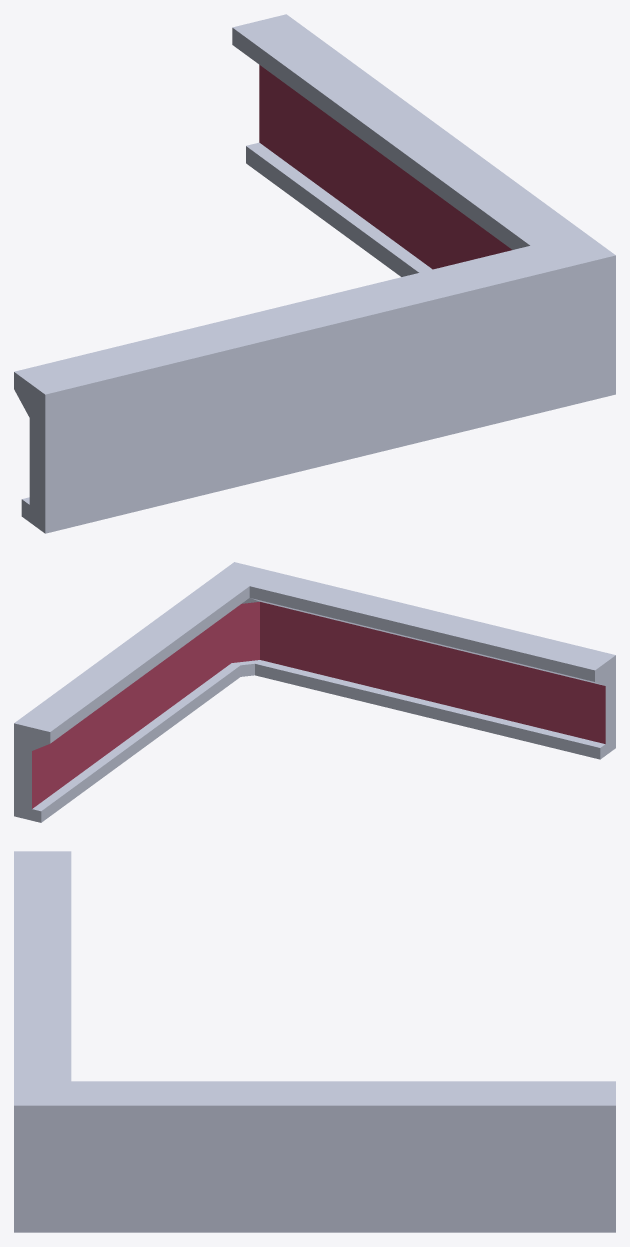
3 views of the same model, one above another, from view 1: azimuth 30°, elevation 25°; view 2: azimuth 150°, elevation 25°; view 3: azimuth 270°, elevation 25° (orthographic). The views are drawn at different scales.
Parts seen in each view (by area): view 1: object_026; view 2: object_026; view 3: object_026.
Boxes of the visible parts, x1,y1,x2,y2 form: object_026: (14,14,615,533); object_026: (14,562,615,822); object_026: (14,851,615,1232).
Bounding box in the file's own units: 10 × 2.33 × 10.
